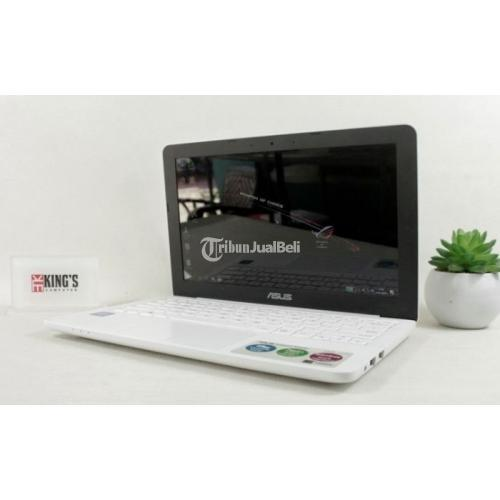Laptop: (43, 117, 435, 388)
